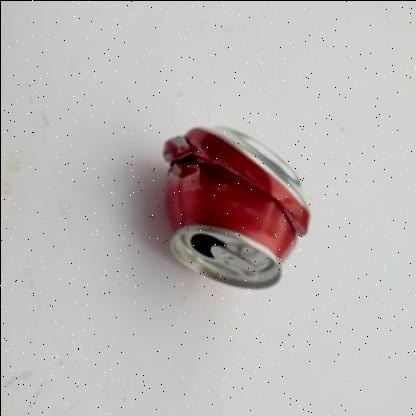Can: (160, 126, 308, 290)
